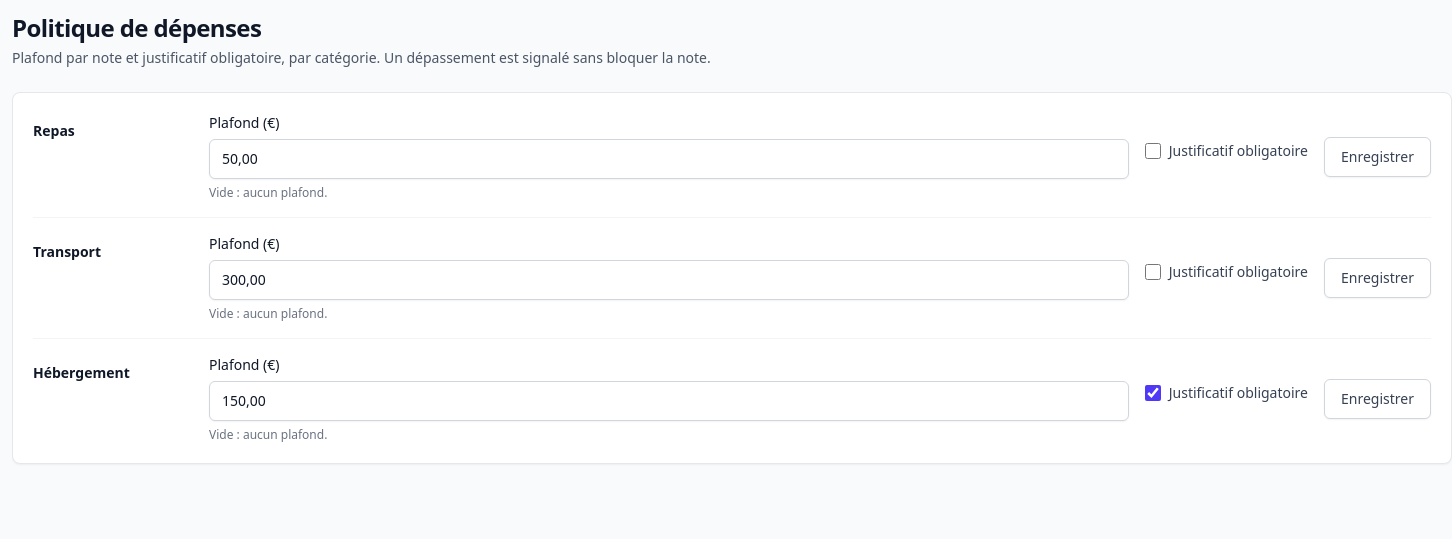
PolicyPage › C2 – enregistre la politique d'une catégorie et le confirme
The image size is (1452, 539).
Expected: the element "Repas" is shown, x1=33 y1=113 x2=1431 y2=201
Step 1. Replace the text in the field labelled "Plafond (€)" below "Repas" with "60" → (669, 159), box x1=209 y1=139 x2=1129 y2=179
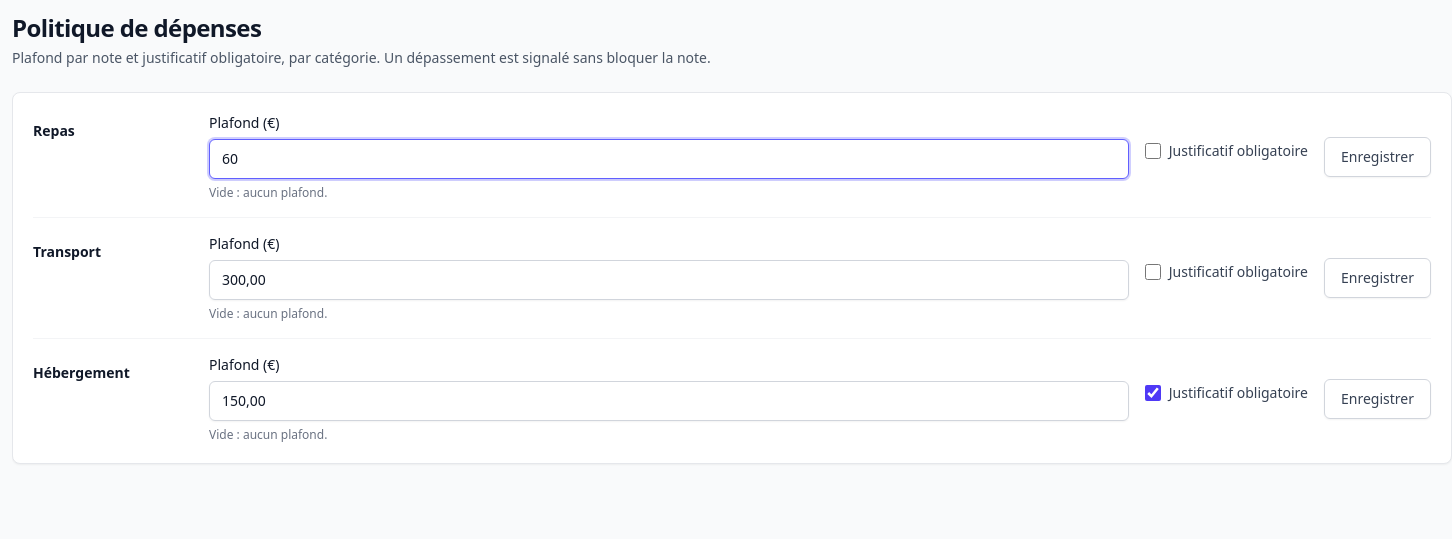
Step 2. Click the 1st checkbox labelled "Justificatif obligatoire" → (1153, 151), box x1=1145 y1=143 x2=1161 y2=159
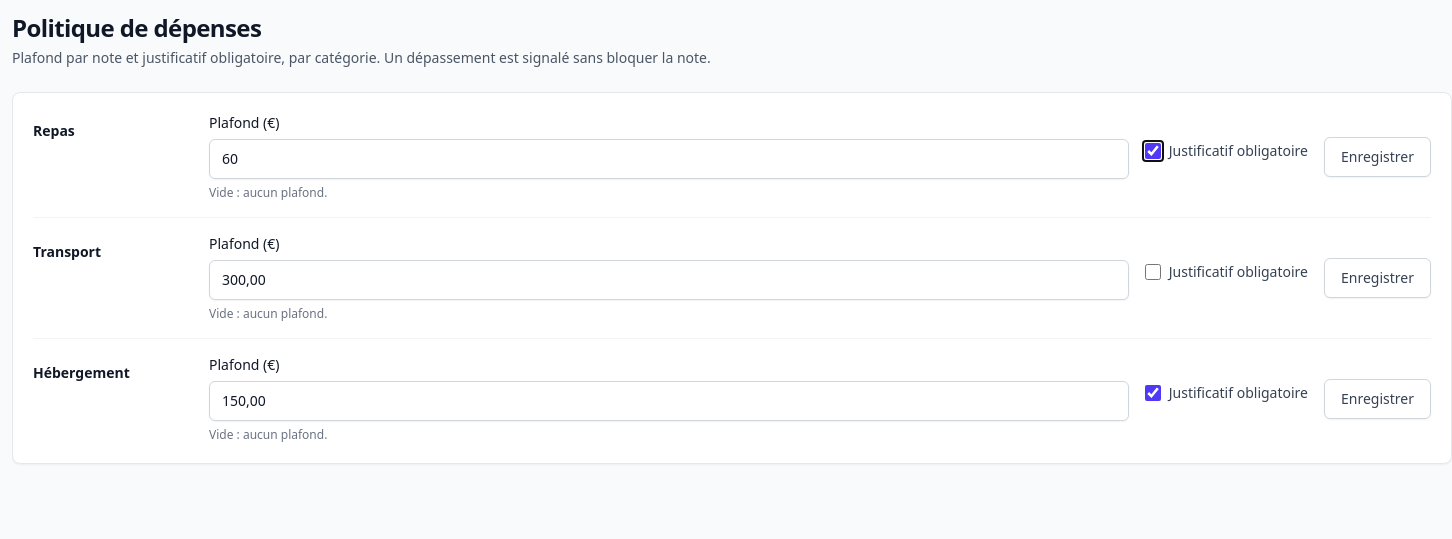
Step 3. Click the button "Enregistrer" in the row of "Repas" → (1378, 157), box x1=1324 y1=137 x2=1431 y2=177
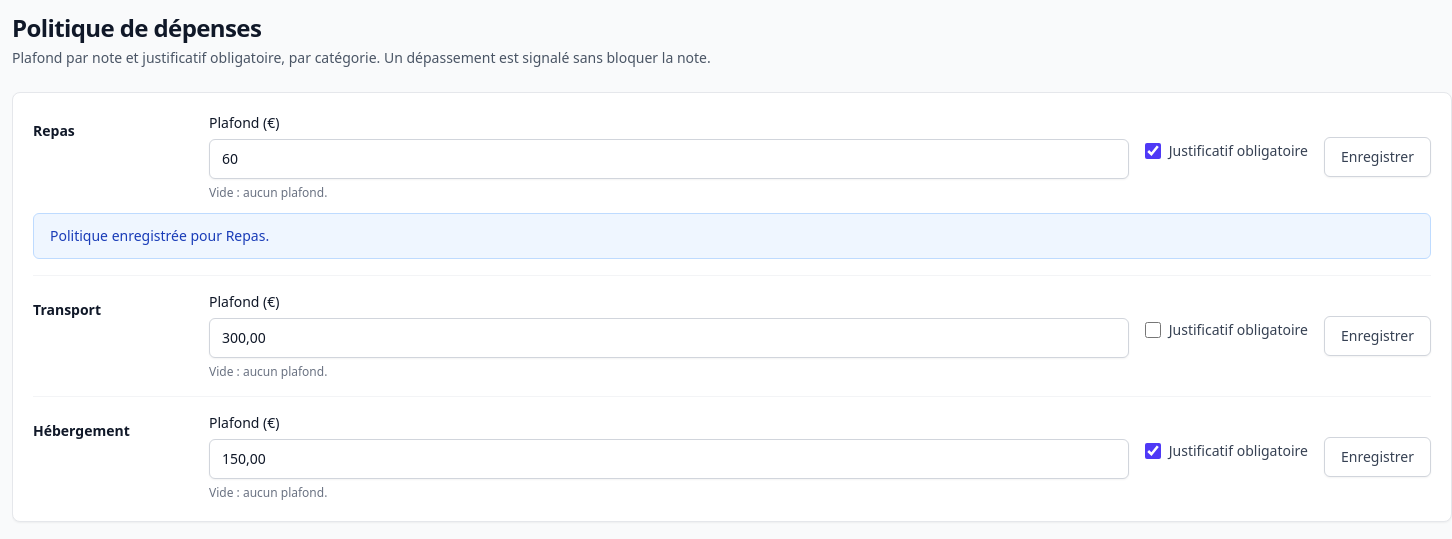
Now the text "Politique enregistrée pour Repas." is shown, box x1=33 y1=213 x2=1431 y2=259
